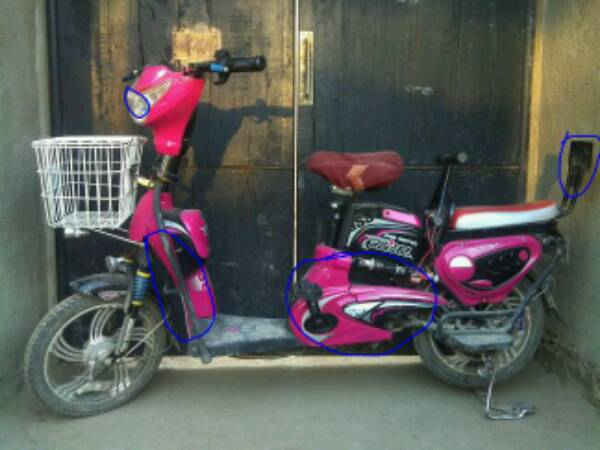电动车: (23, 31, 600, 433)
